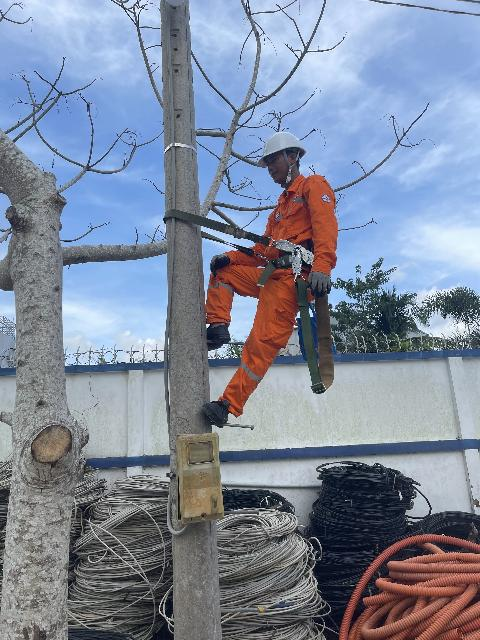gloves: (198, 246, 235, 279), (307, 262, 335, 298)
harness: (240, 230, 324, 275)
helmet: (257, 132, 308, 173)
shoes: (192, 393, 239, 434), (194, 320, 239, 355)
